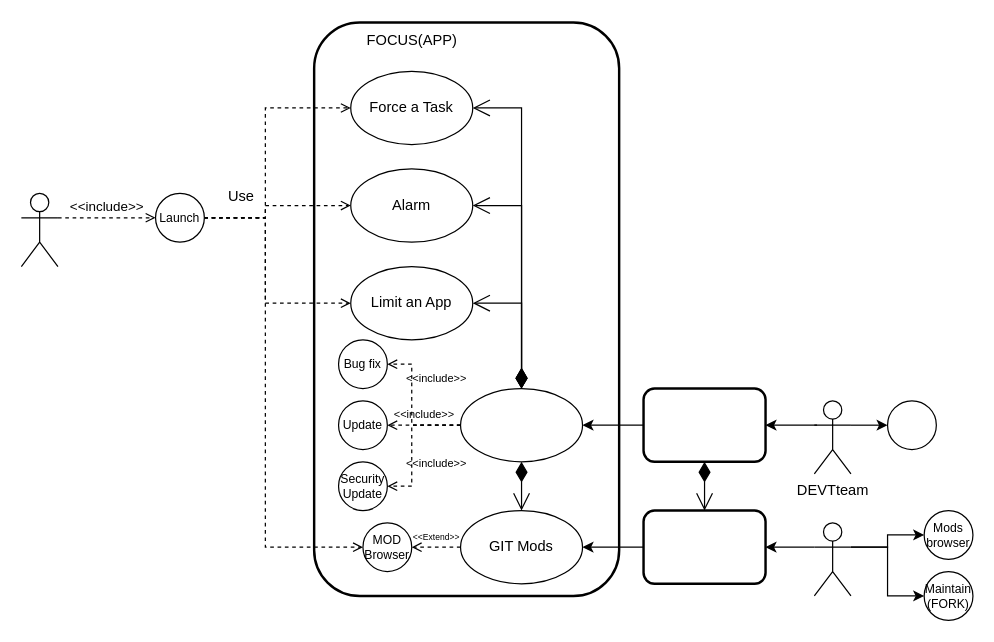
Some shapes in this 994 by 642 pixel diagram are drawn without their labels. The centre of each missing label's shape, as x and y in pixels:
"Check Request" belongs at point (911, 425).
"Git (FORK)" belongs at point (704, 546).
"Git (Repository)" belongs at point (704, 424).
"Maintain App" belongs at point (521, 424).
"Modder (GIT COMMUNITY)" belongs at point (832, 559).
"User" belongs at point (39, 229).
